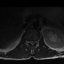CCS_normal: (31, 39, 33, 47)
LFS_normal: (35, 40, 36, 44)
LLS_normal: (33, 39, 34, 45)
RFS_stenosis: (27, 40, 29, 44)
RLS_normal: (29, 39, 31, 45)
